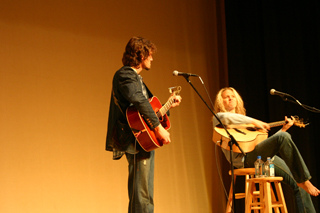person: (211, 87, 320, 213), (105, 37, 183, 213)
